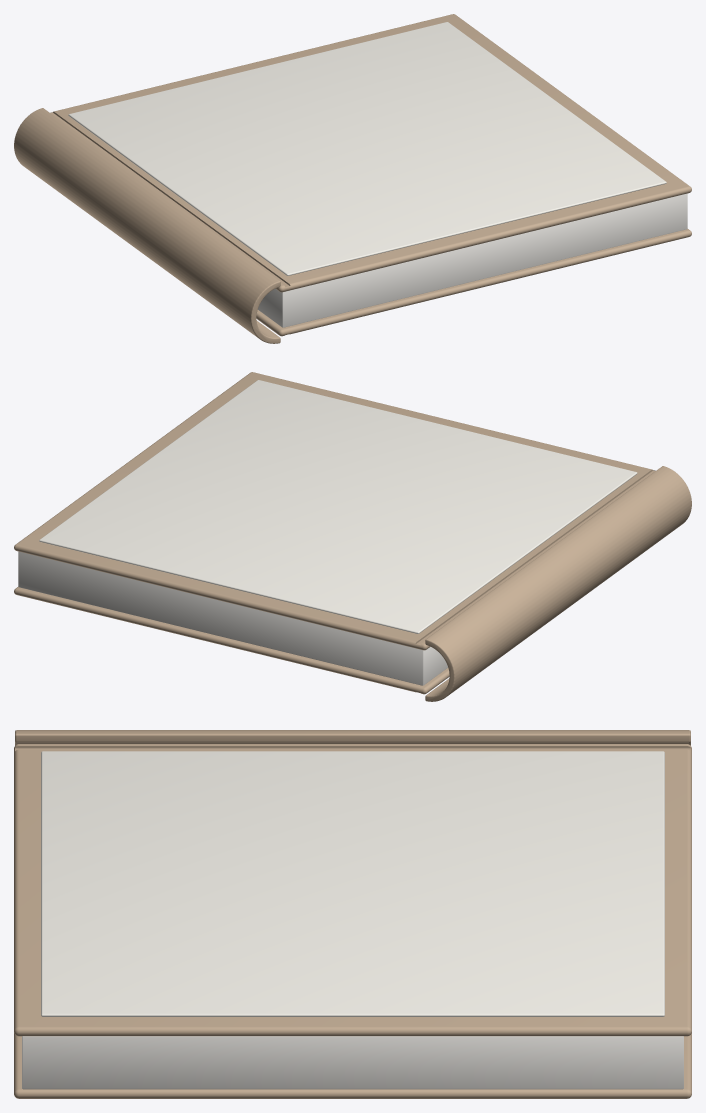
Rendered from laser--square.glb.
3 renders of one model, top to bottom at view 1: azimuth 30°, elevation 25°; view 2: azimuth 150°, elevation 25°; view 3: azimuth 270°, elevation 25°, orthographic. The views are drawn at different scales.
Parts seen in each view (by area): view 1: Band, Spine, Pages, CoverFront, CoverBack; view 2: Band, Spine, Pages, CoverFront, CoverBack; view 3: Band, Pages, CoverFront, Spine, CoverBack.
Part boxes in pixels (x1,y1,x2,y2): Band: (68, 22, 666, 275); Spine: (14, 108, 280, 343); Pages: (258, 193, 687, 327); CoverFront: (50, 14, 691, 292); CoverBack: (256, 229, 691, 336); Band: (39, 380, 637, 633); Spine: (425, 466, 691, 701); Pages: (18, 551, 447, 685); CoverFront: (14, 372, 655, 650); CoverBack: (14, 587, 449, 694); Band: (41, 751, 664, 1016); Pages: (22, 1036, 683, 1089); CoverFront: (14, 744, 691, 1036); Spine: (15, 730, 690, 745); CoverBack: (14, 1033, 691, 1098).
Size of the model in its own units: 0.3208 by 0.043 by 0.3.
